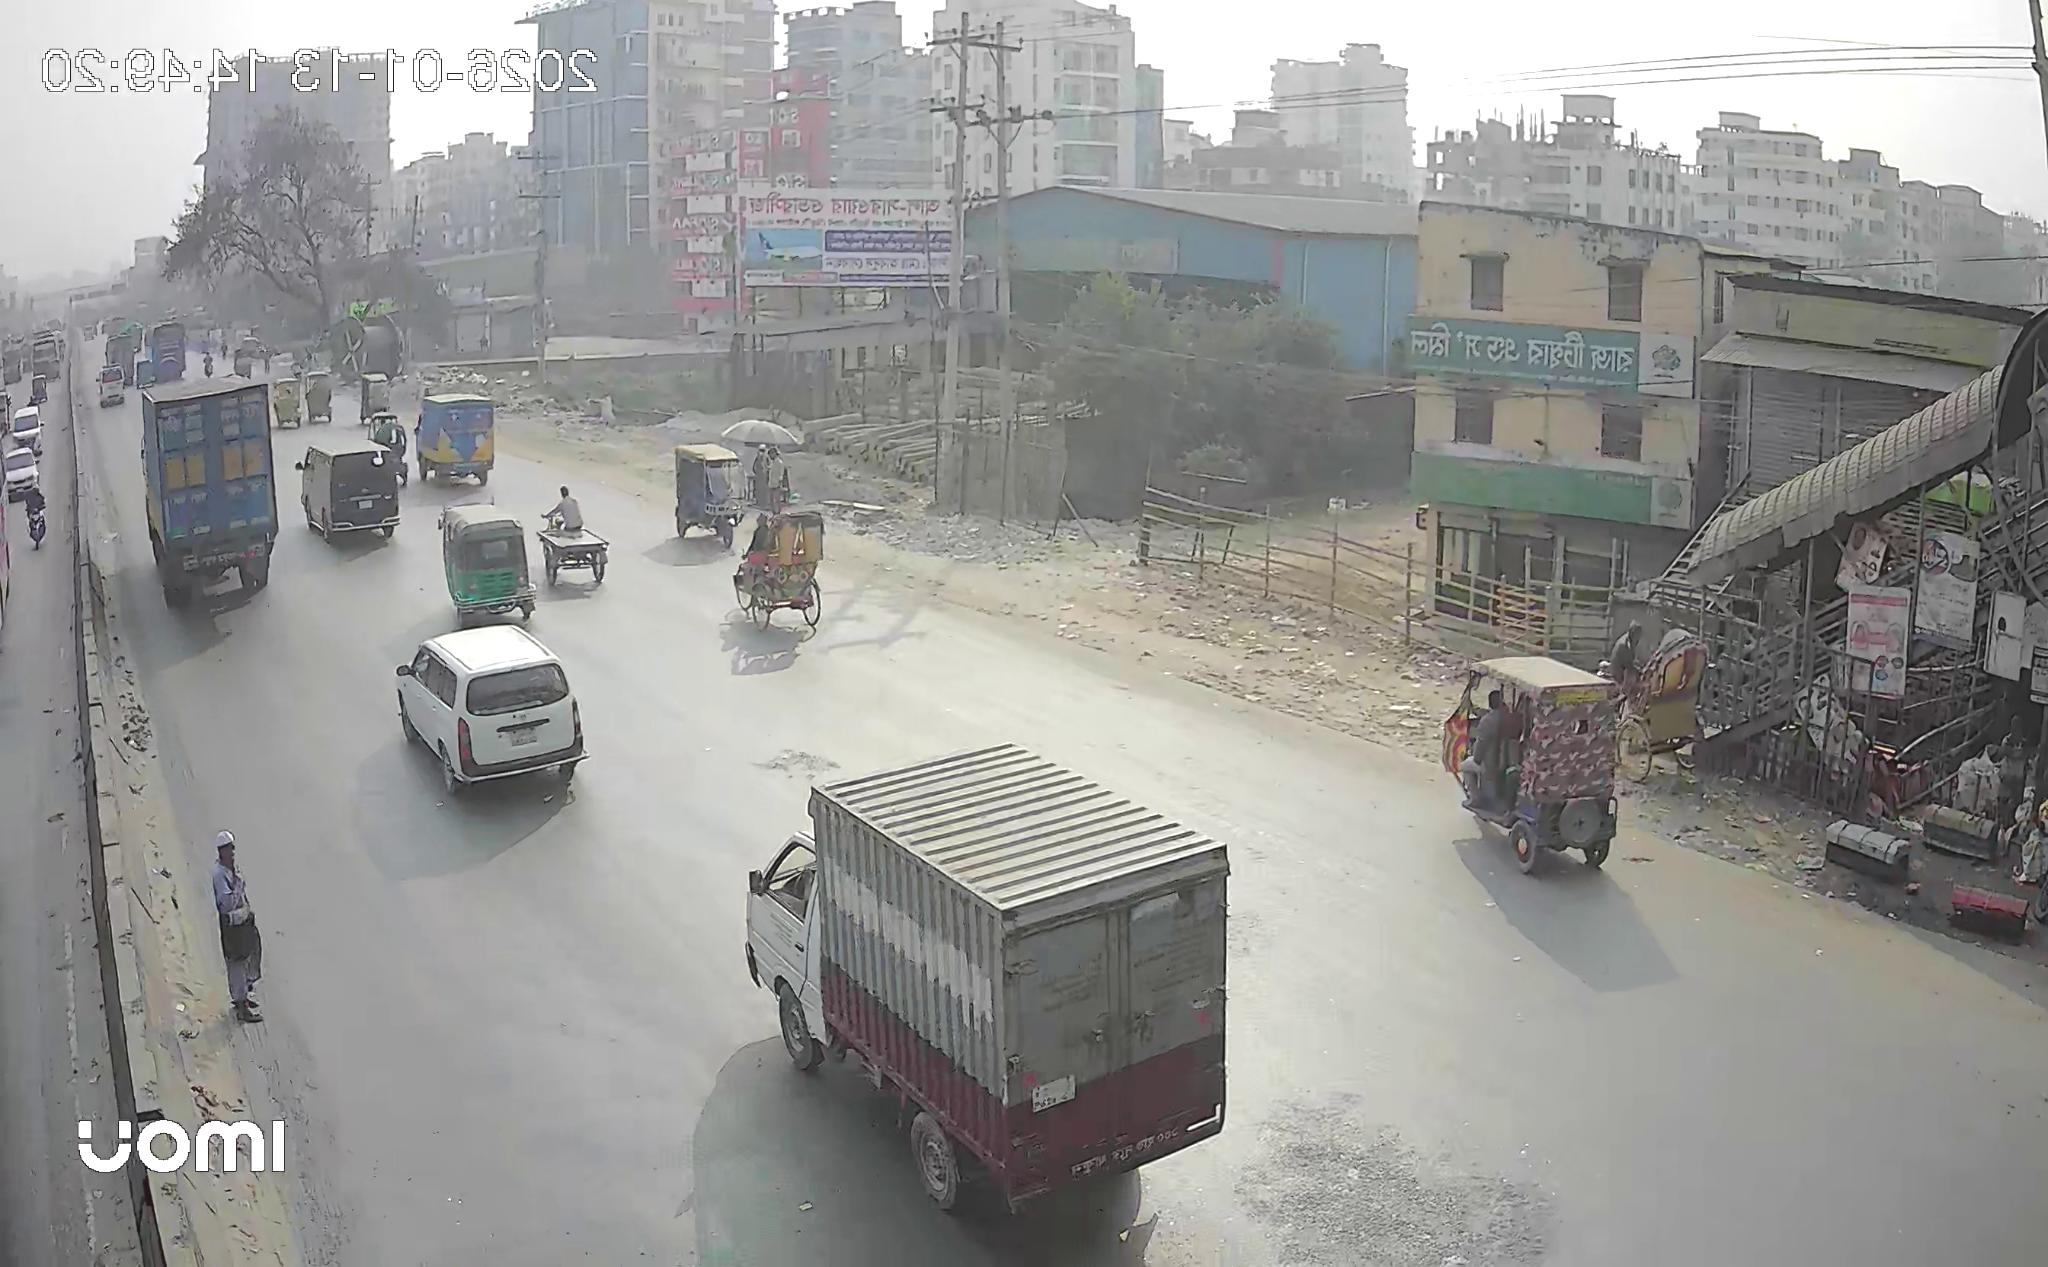Auto Rickshaw: (1441, 657, 1621, 873), (674, 446, 742, 547)
CNG-Tempo: (440, 503, 535, 628)
Cycle Rickshaw: (734, 508, 824, 628)
Jeep-SUV: (295, 439, 399, 538)
Private-Sedan Car: (396, 626, 584, 792)
Truck: (746, 745, 1230, 1210), (142, 380, 278, 607), (413, 394, 494, 484)
